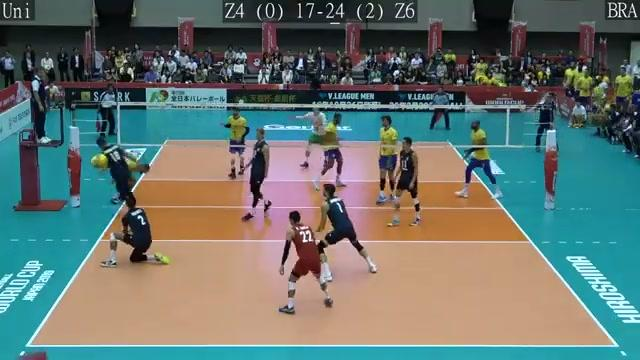ball: (87, 153, 110, 171)
